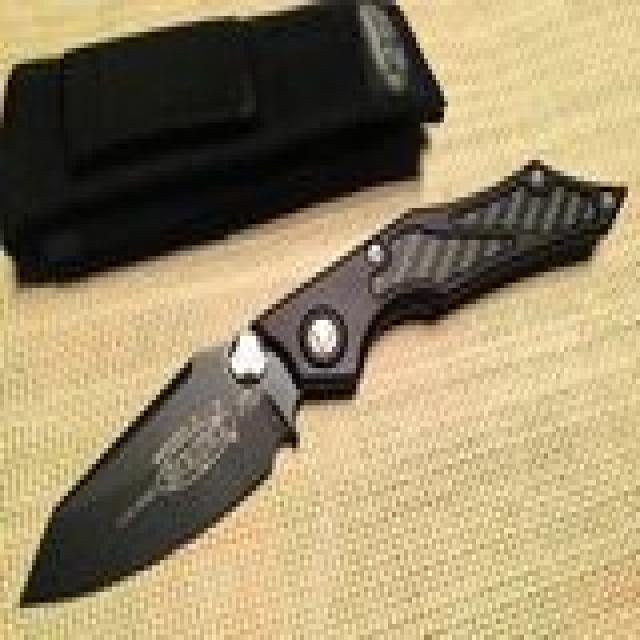Knife: (16, 150, 640, 607)
